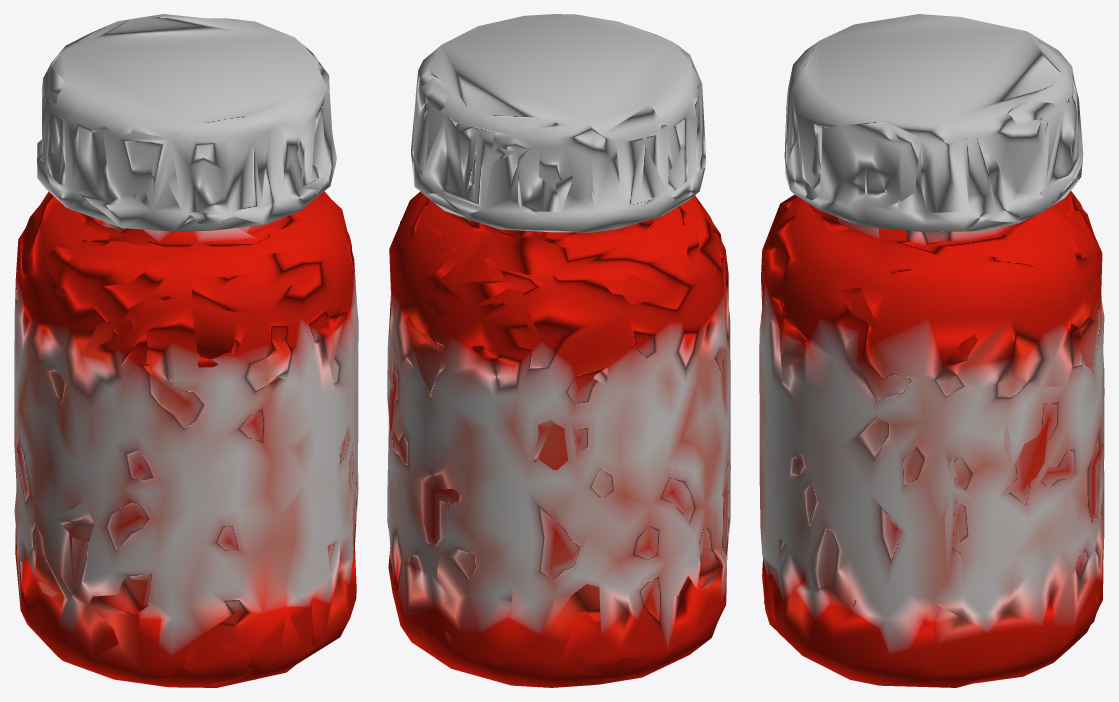
The model's file is gen3d-pill-bottle-lod0.glb.
3 renders of one model, left to right at view 1: azimuth 30°, elevation 25°; view 2: azimuth 150°, elevation 25°; view 3: azimuth 270°, elevation 25°, orthographic.
Parts seen in each view (by area): view 1: part_0; view 2: part_0; view 3: part_0.
Part boxes in pixels (x1=…): part_0: x1=14, y1=14, x2=358, y2=687; part_0: x1=387, y1=14, x2=730, y2=687; part_0: x1=759, y1=14, x2=1104, y2=687.
Size of the model in its own units: 0.5532 by 1 by 0.5532.
